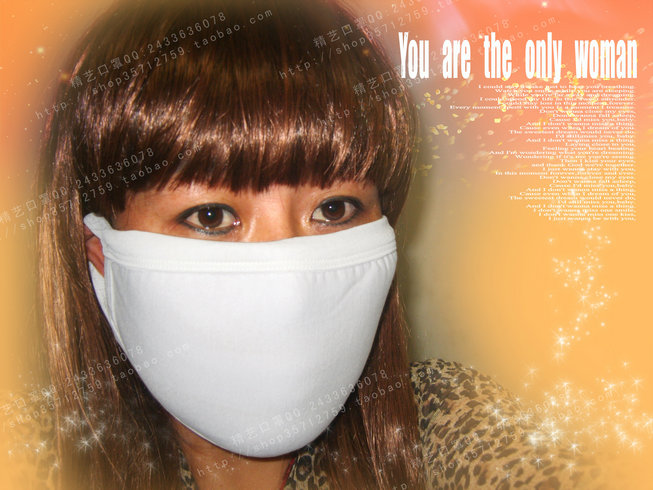face_mask: (114, 80, 398, 455)
